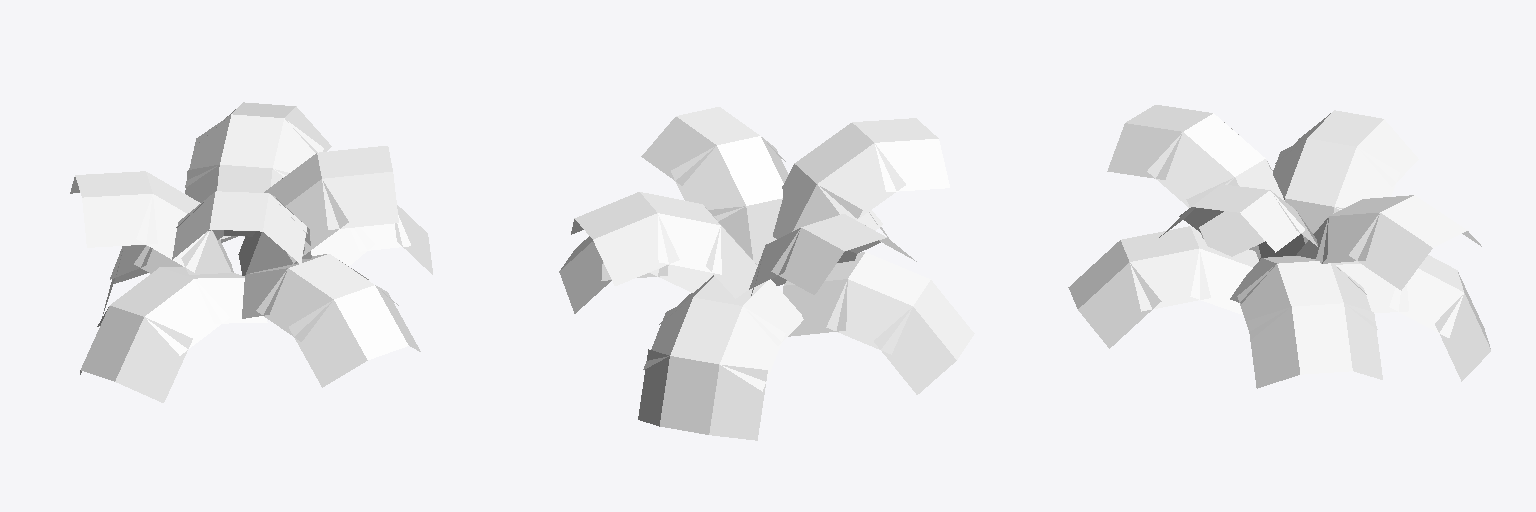
File: mt_palm_upper.obj
The picture shows the model from 3 angles: view 1: azimuth 30°, elevation 25°; view 2: azimuth 150°, elevation 25°; view 3: azimuth 270°, elevation 25°; orthographic projection.
Parts seen in each view (by area): view 1: cube; view 2: cube; view 3: cube.
Part boxes in pixels (x1,y1,x2,y2): cube: (70,102,432,402); cube: (559,107,974,440); cube: (1068,105,1490,388).
Size of the model in its own units: 5.88 by 3.3 by 5.91.